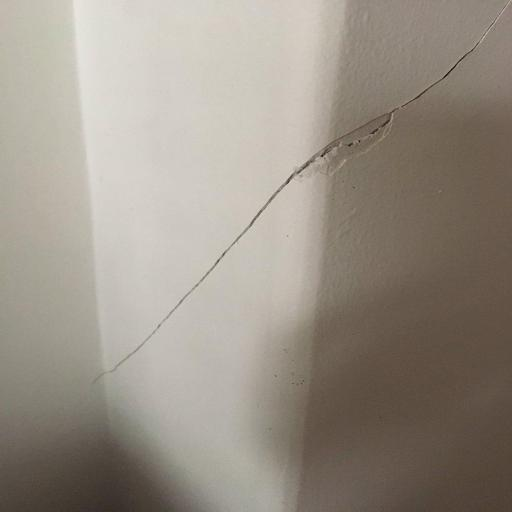spalling: (109, 8, 510, 379)
